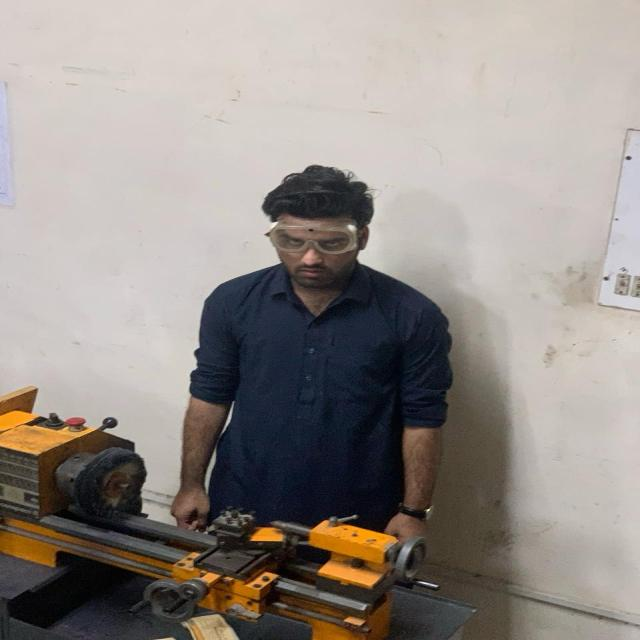googles: (266, 220, 362, 258)
